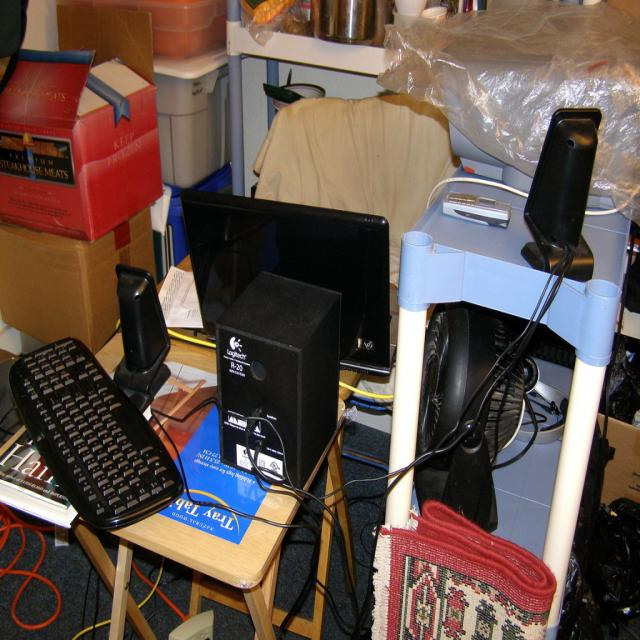chair: (254, 90, 461, 202)
desk: (0, 330, 355, 640)
keyboard: (6, 333, 182, 530)
tv: (179, 185, 391, 377)
